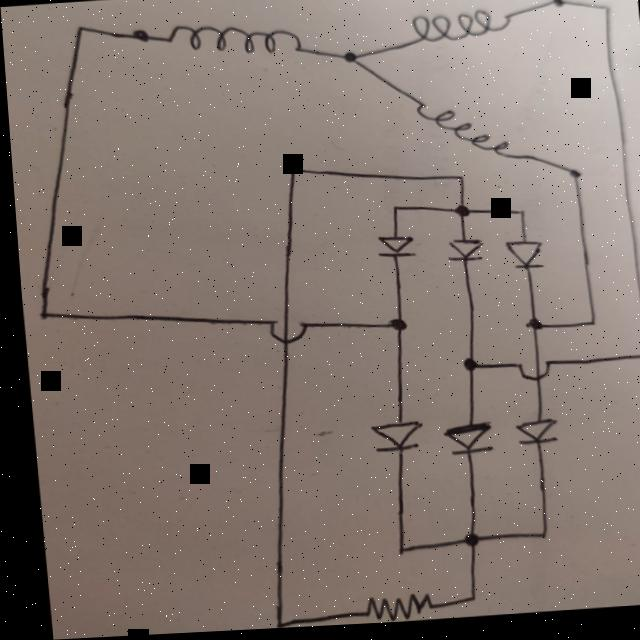crossover: (263, 318, 304, 347), (510, 363, 550, 387)
diode: (365, 420, 417, 456), (437, 425, 486, 460), (506, 421, 554, 451), (501, 242, 542, 275), (375, 234, 413, 265), (443, 240, 480, 267)
inductor: (415, 102, 515, 167), (167, 19, 302, 60), (411, 11, 511, 46)
junction: (451, 531, 477, 553), (381, 318, 406, 337), (127, 26, 151, 45), (518, 320, 540, 338), (340, 50, 362, 68), (454, 358, 475, 376), (28, 305, 51, 321), (450, 205, 467, 225), (561, 173, 585, 186), (548, 0, 567, 15), (385, 545, 402, 560), (70, 22, 91, 34), (524, 533, 543, 546), (261, 618, 279, 631), (597, 8, 615, 21), (454, 594, 471, 607), (282, 166, 299, 178), (384, 206, 401, 217), (509, 212, 525, 223), (579, 321, 595, 332), (452, 177, 464, 187), (634, 355, 640, 368)
resistor: (355, 596, 426, 625)
